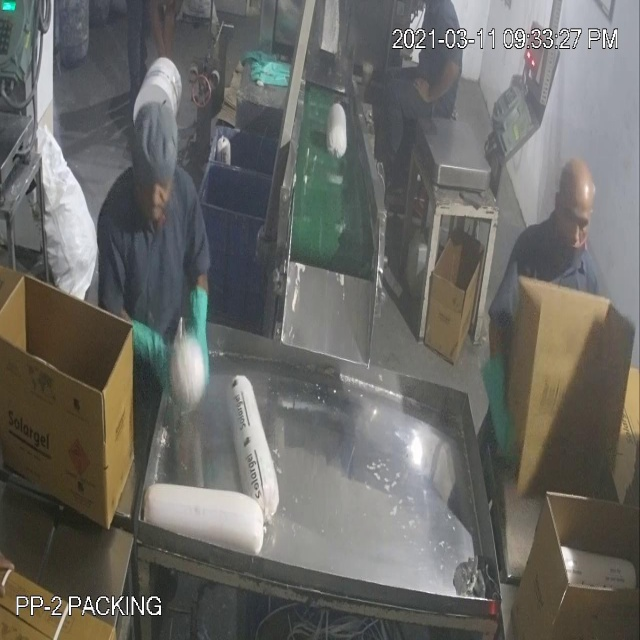Guantes: (476, 339, 524, 466)
Sin_guantes: (412, 51, 461, 115), (160, 1, 180, 75)
